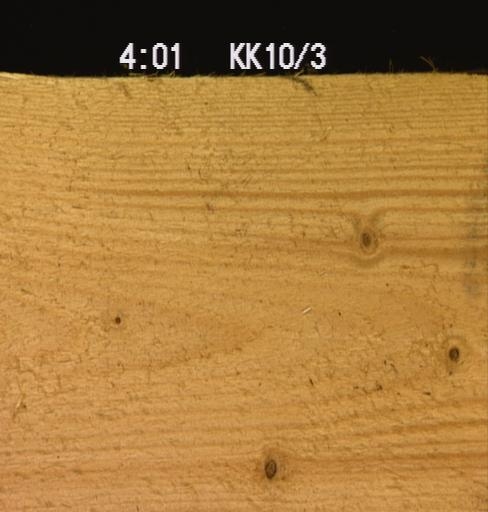dry_knot: (260, 456, 278, 480), (444, 340, 461, 365)
small_knot: (355, 221, 378, 253), (110, 310, 124, 328)
